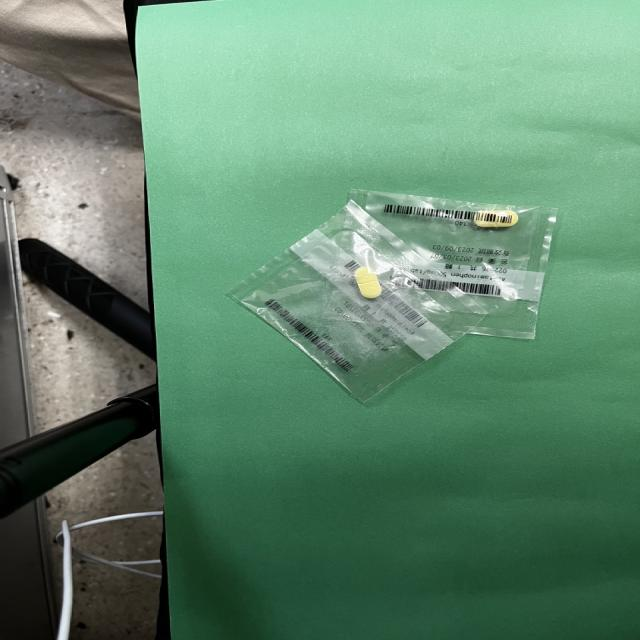Other Objects: (229, 190, 557, 402)
